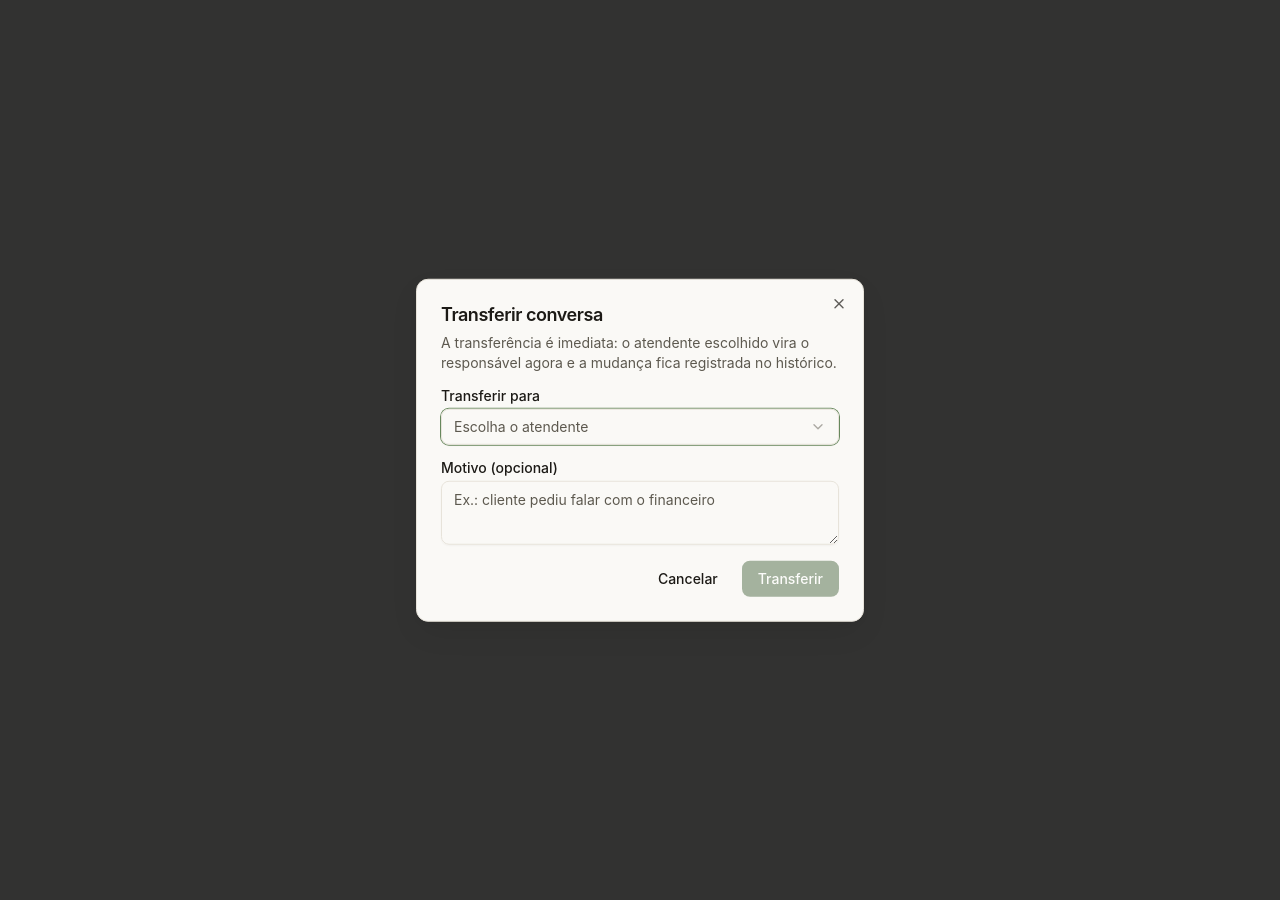
#3732 — o aviso do número no diálogo de Transferir › ⭐ destino sem número conectado: o diálogo avisa que a conversa continua onde está
Click the dropdown with id "reassign-target" at (521, 426), box [441,408,839,444]
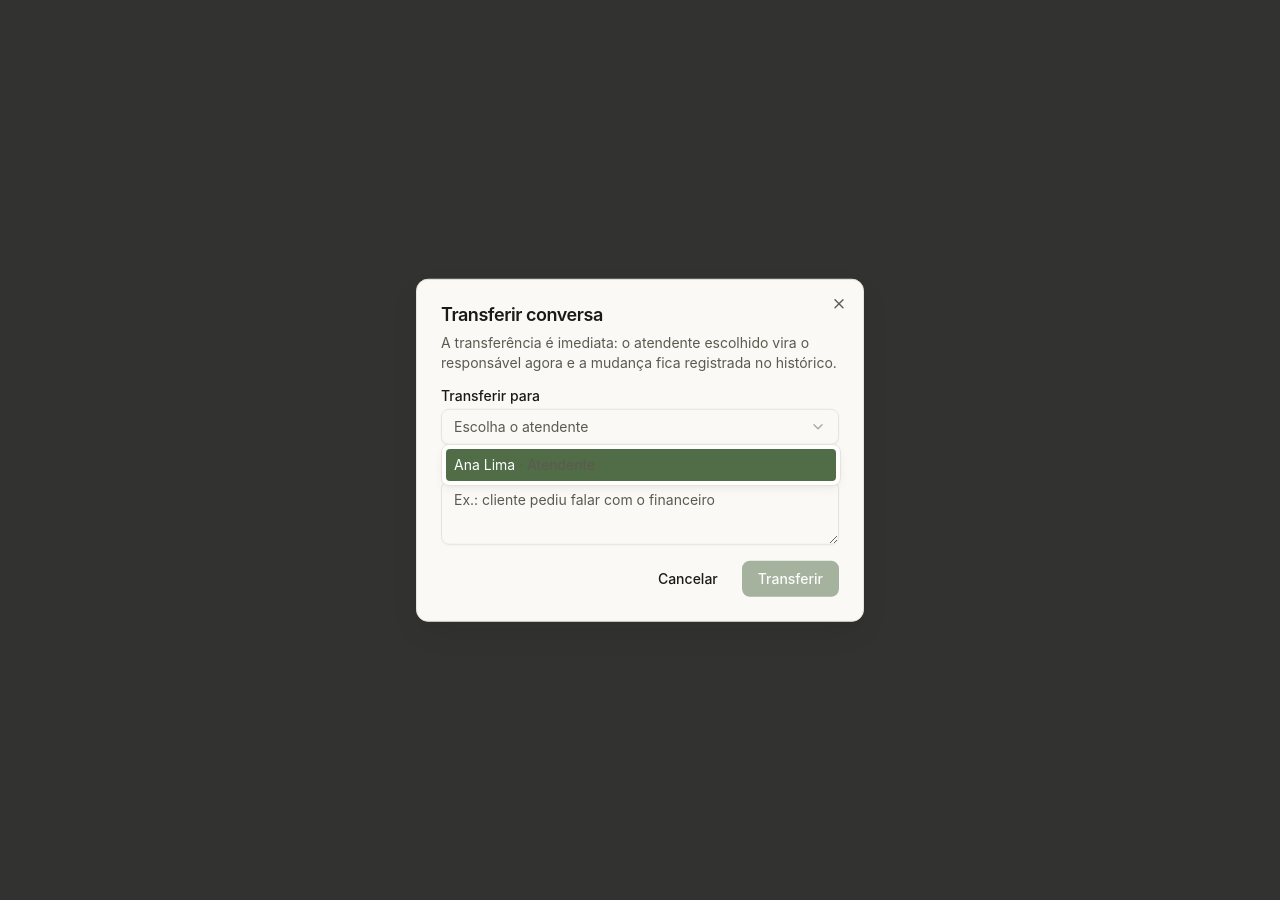
Expected: the option "Ana Lima· Atendente" is shown
Click the option "Ana Lima· Atendente" at (485, 464), box [446,449,836,481]
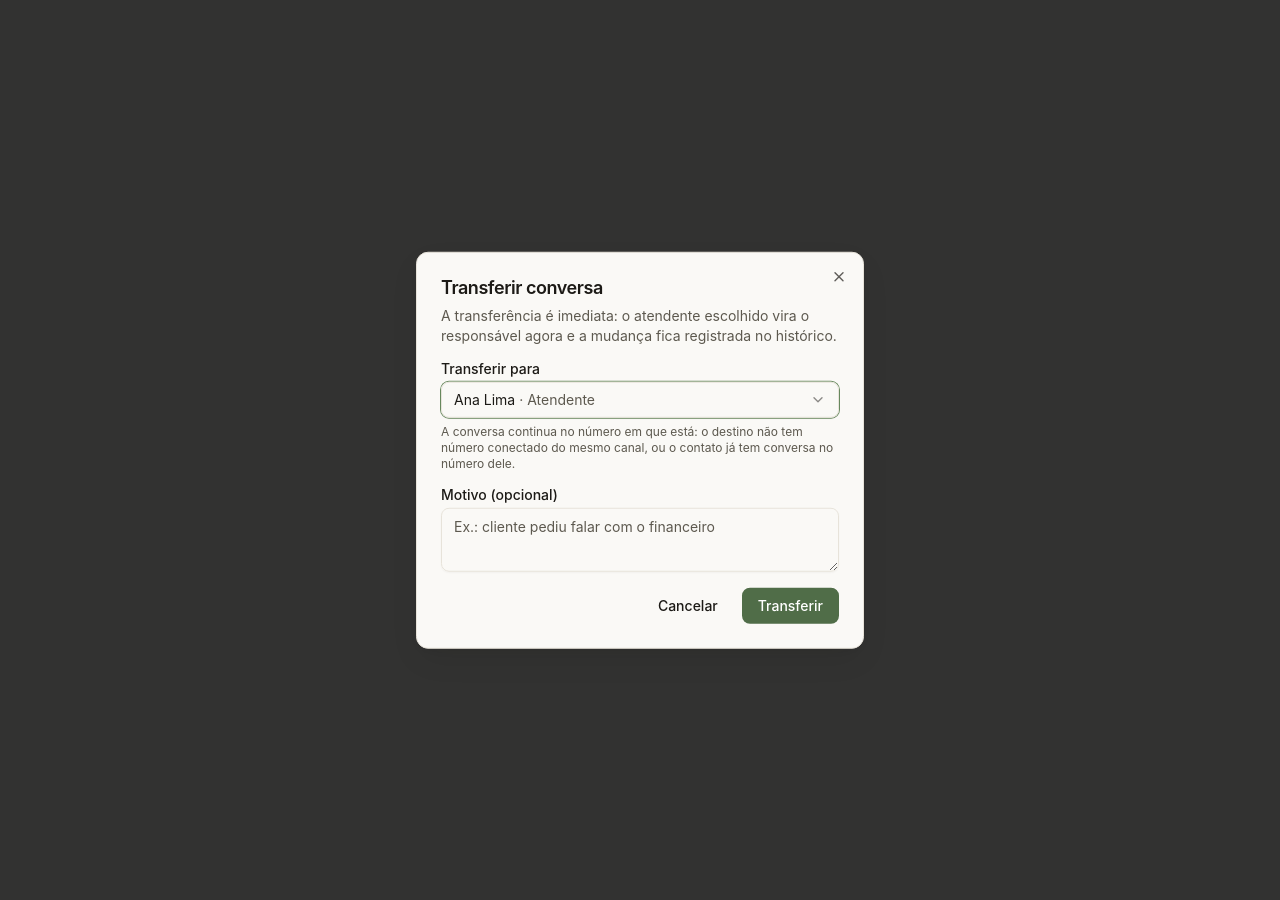
Expected: the message with test id "aviso-numero-atual-da-transferencia" shows "A conversa continua no número em que está", [441,423,833,470]
